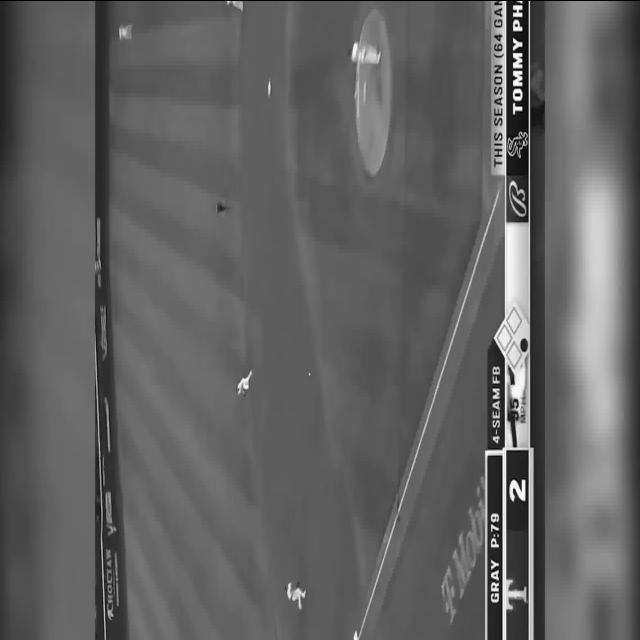baseball: (308, 371, 310, 375)
